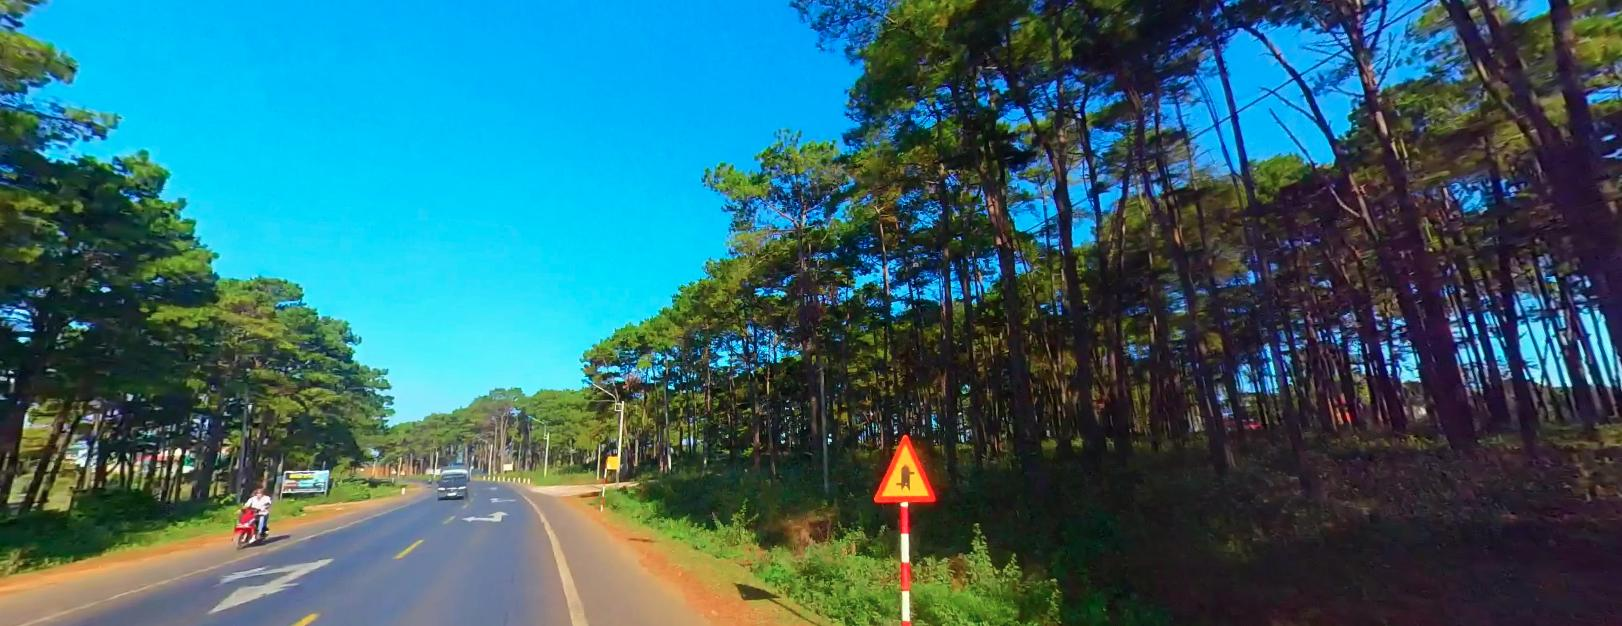Nguy hiem: (861, 426, 943, 514)
